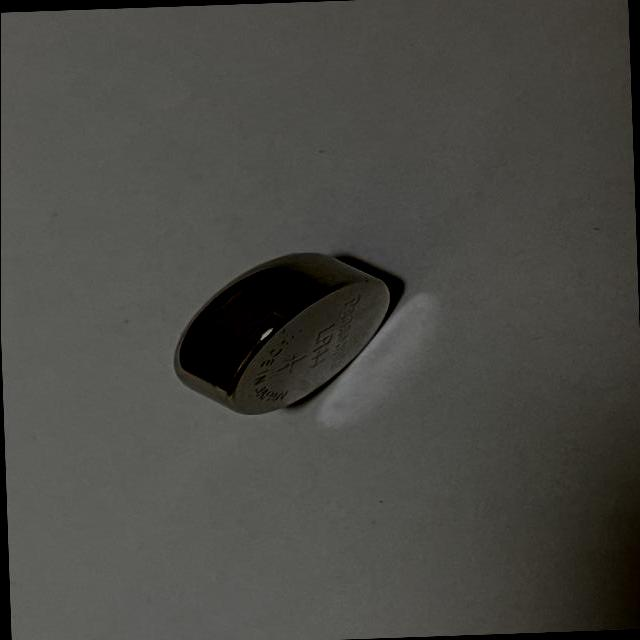COIN: (172, 246, 408, 416)
